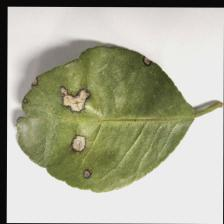canker: (14, 48, 153, 196)
